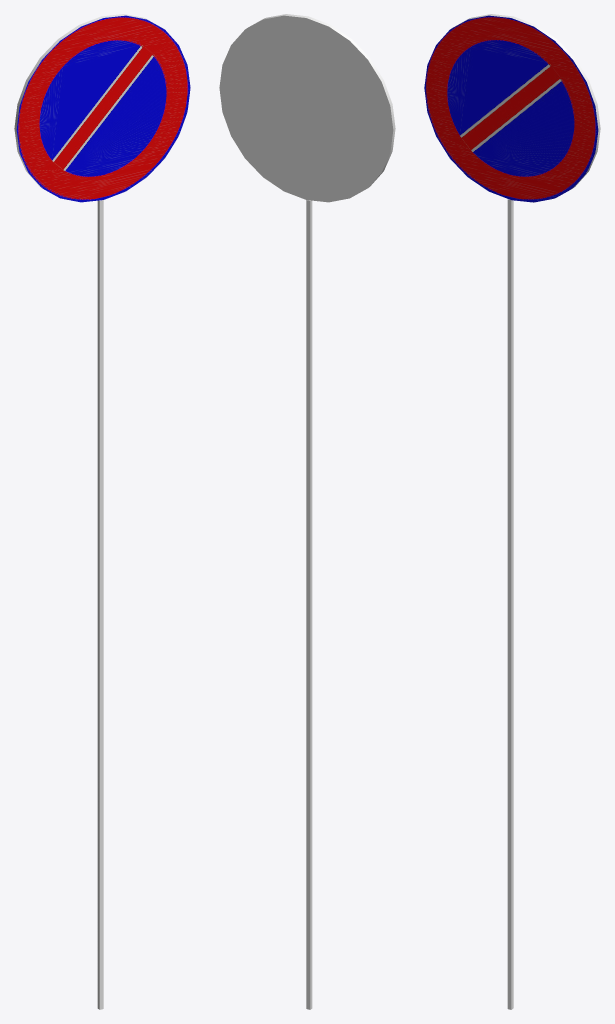
Rendered from trafik_levha_park_etmek_yasaktir.obj.
3 renders of one model, left to right at view 1: azimuth 30°, elevation 25°; view 2: azimuth 150°, elevation 25°; view 3: azimuth 330°, elevation 25°, orthographic.
Visible parts, largest first — view 1: Mesh2 Group3 Group1 Model, Mesh1 Group2 Group1 Model; view 2: Mesh2 Group3 Group1 Model, Mesh1 Group2 Group1 Model; view 3: Mesh2 Group3 Group1 Model, Mesh1 Group2 Group1 Model.
Boxes of the visible parts, x1=… form: Mesh2 Group3 Group1 Model: x1=14, y1=14, x2=190, y2=202; Mesh1 Group2 Group1 Model: x1=97, y1=200, x2=103, y2=1009; Mesh2 Group3 Group1 Model: x1=219, y1=14, x2=395, y2=202; Mesh1 Group2 Group1 Model: x1=306, y1=200, x2=312, y2=1009; Mesh2 Group3 Group1 Model: x1=424, y1=14, x2=600, y2=202; Mesh1 Group2 Group1 Model: x1=507, y1=199, x2=513, y2=1009.
Bounding box in the file's own units: 450 × 2450 × 10.
Materials: 3 (1 with a texture image).
